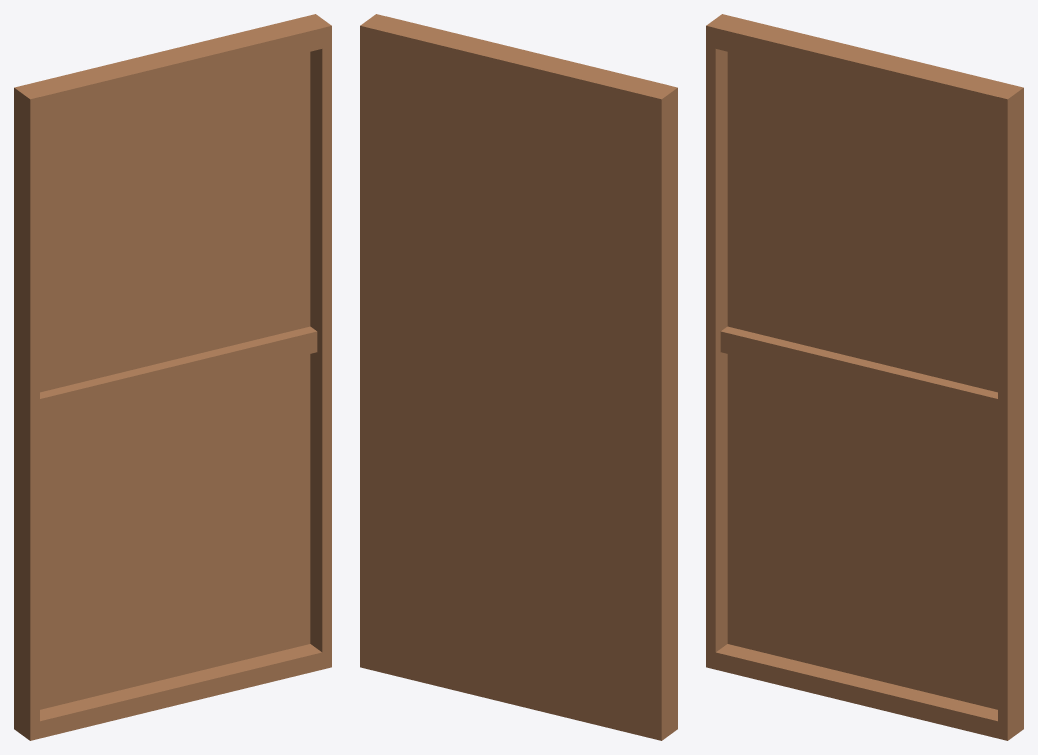
Rendered from Panel4by2.fbx.
3 renders of one model, left to right at view 1: azimuth 30°, elevation 25°; view 2: azimuth 150°, elevation 25°; view 3: azimuth 330°, elevation 25°, orthographic.
Visible parts, largest first — view 1: Panel4by2; view 2: Panel4by2; view 3: Panel4by2.
Part boxes in pixels (box(x1,y1,x2,y2)): Panel4by2: box(14, 14, 331, 740); Panel4by2: box(360, 14, 677, 740); Panel4by2: box(706, 14, 1023, 740).
Size of the model in its own units: 56.06 by 5.2 by 114.
